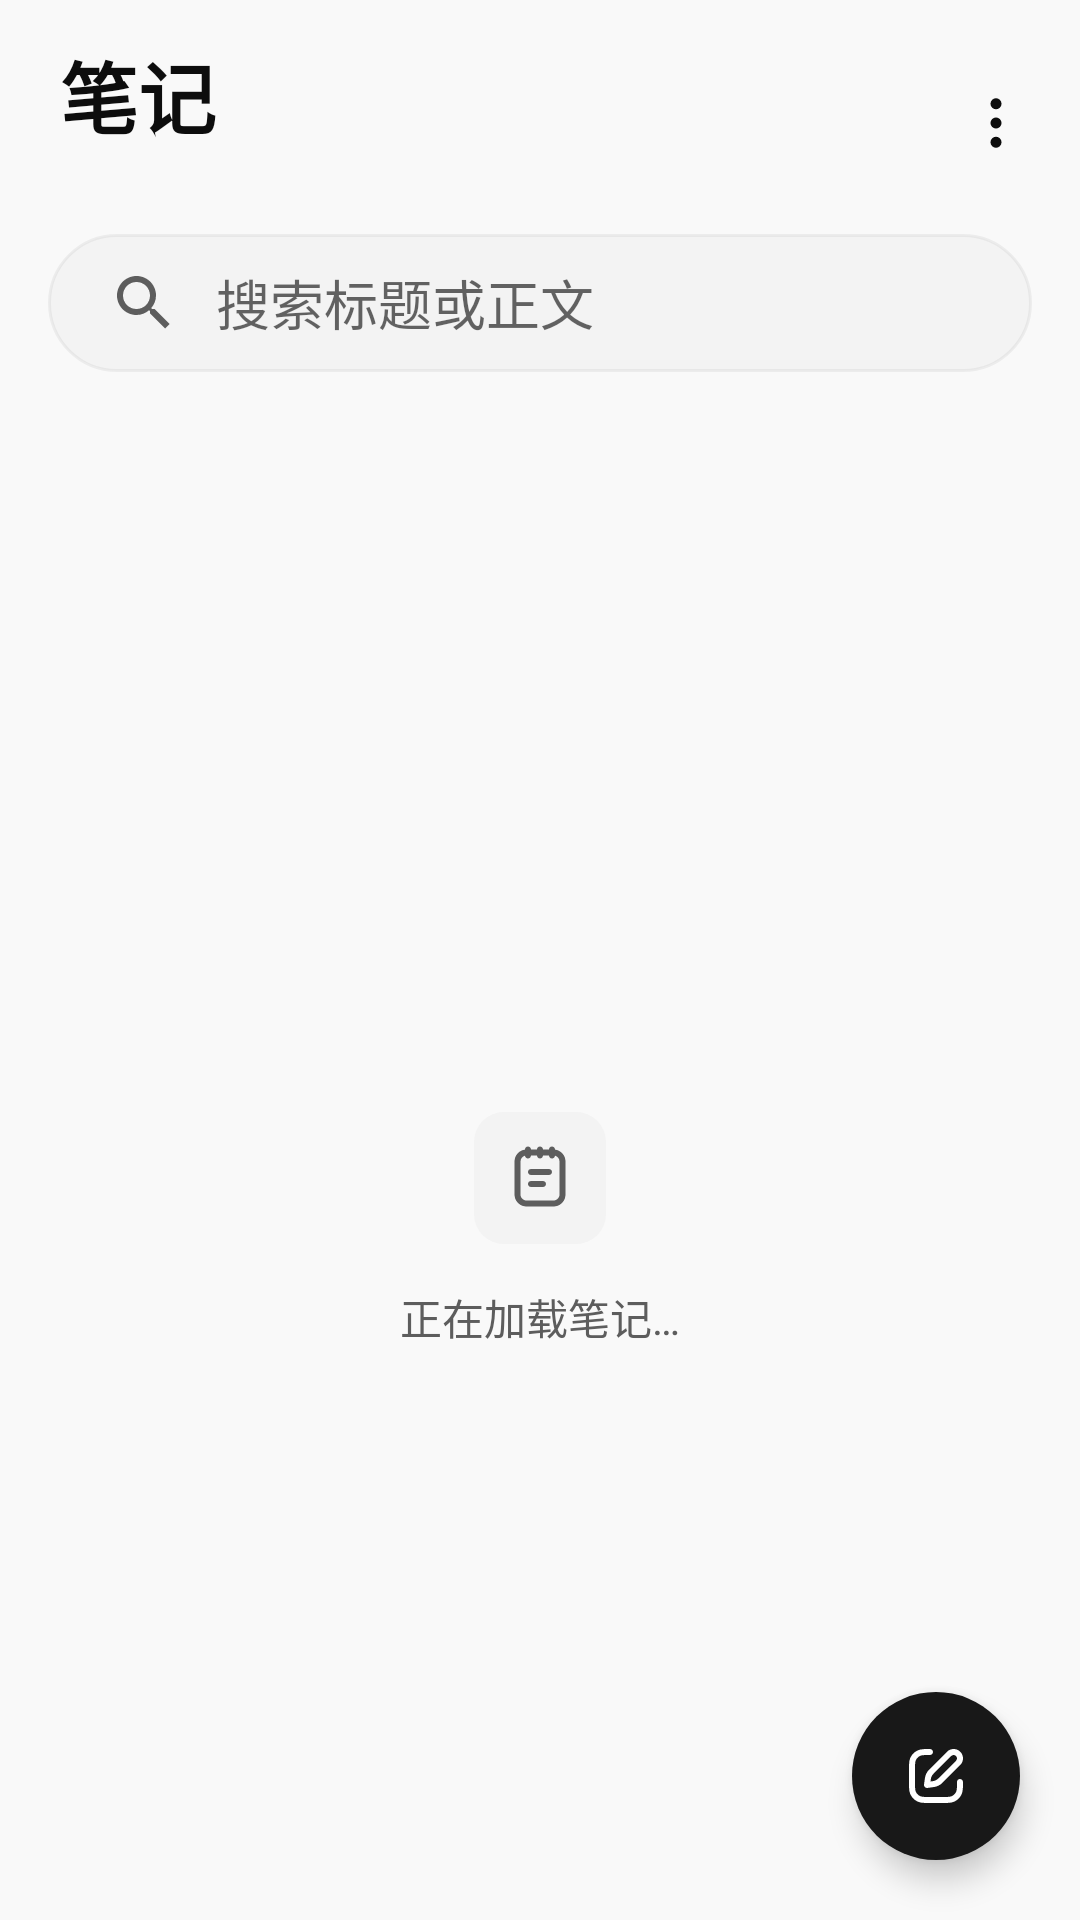

Locate icon controls on the screen. Image size 1080 x 1920, boxes as (x1, y1, x2, y2).
新建笔记: (852, 1692, 1020, 1860)
更多操作: (990, 98, 1002, 148)
